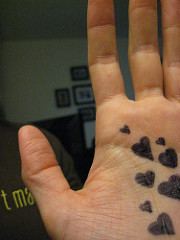palm: (76, 104, 174, 239)
